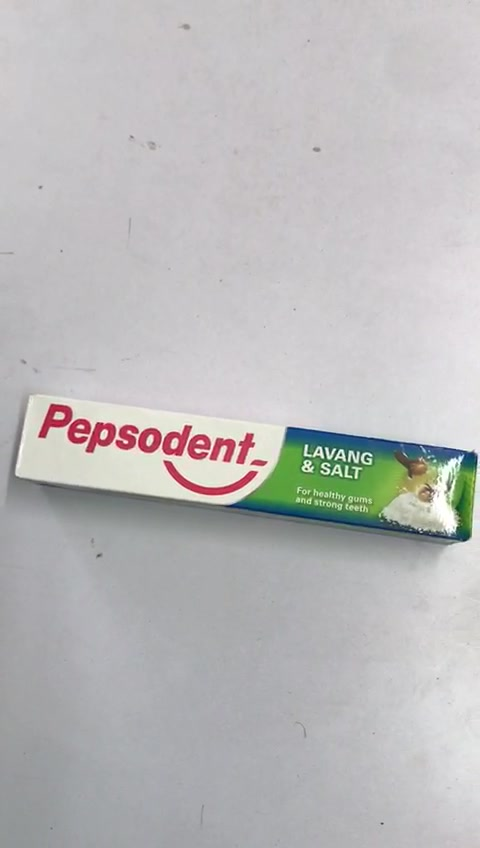pepsodent: (13, 390, 475, 545)
